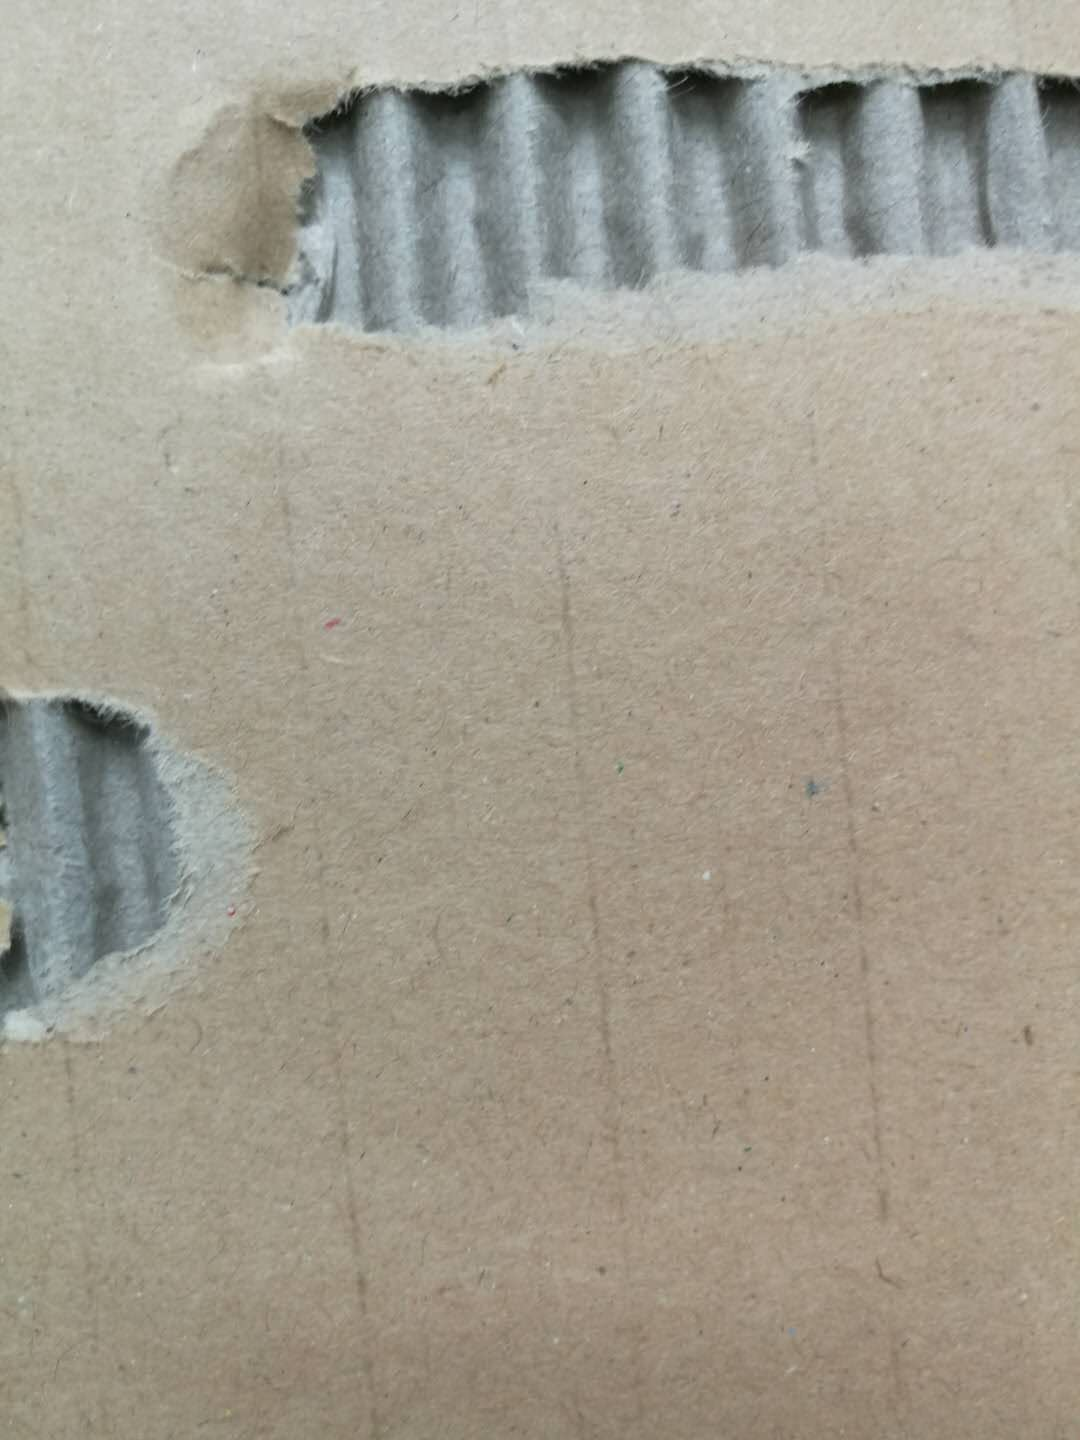defect: (129, 18, 1080, 379), (2, 650, 299, 1099)
